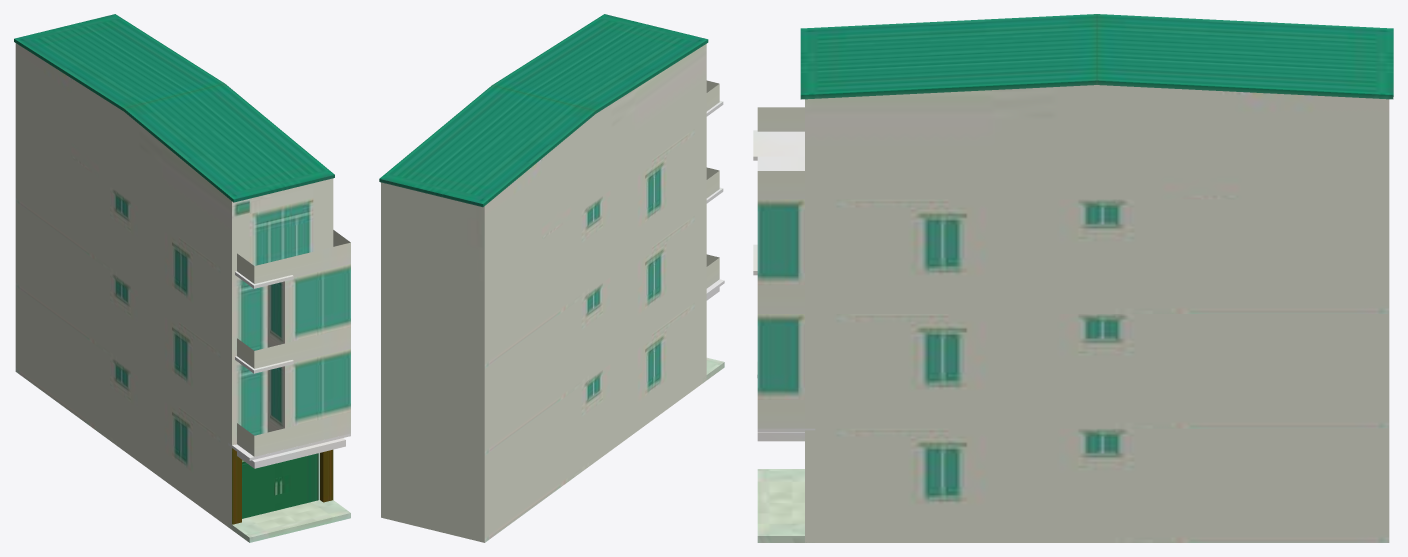
3 views of the same model, side by side, from view 1: azimuth 30°, elevation 25°; view 2: azimuth 150°, elevation 25°; view 3: azimuth 270°, elevation 25° (orthographic). The views are drawn at different scales.
Parts seen in each view (by area): view 1: 5bf763b307a01d0a843d9282.001; view 2: 5bf763b307a01d0a843d9282.001; view 3: 5bf763b307a01d0a843d9282.001.
Boxes of the visible parts, <box> form: 5bf763b307a01d0a843d9282.001: <box>14,14,350,542</box>; 5bf763b307a01d0a843d9282.001: <box>379,14,724,542</box>; 5bf763b307a01d0a843d9282.001: <box>753,14,1393,542</box>.
Bounding box in the file's own units: 5 × 16.15 × 20.27.
Materials: 1 (1 with a texture image).
